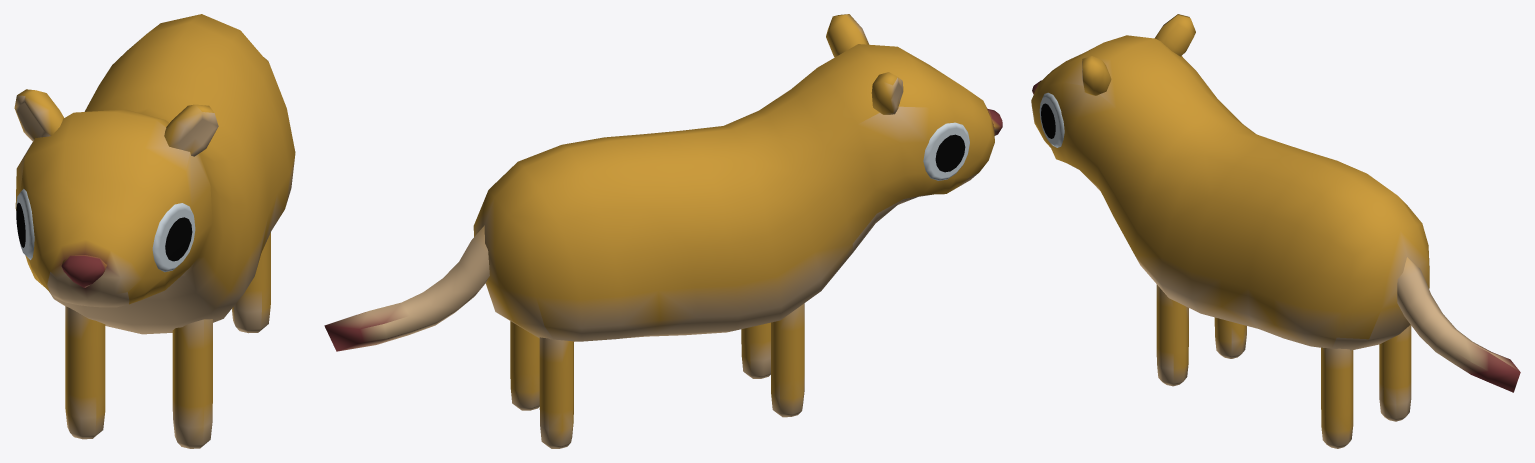
Rendered from Lioness.glb.
The picture shows the model from 3 angles, left to right: view 1: azimuth 30°, elevation 25°; view 2: azimuth 150°, elevation 25°; view 3: azimuth 270°, elevation 25°; orthographic projection. The views are drawn at different scales.
Parts seen in each view (by area): view 1: 92; view 2: 92; view 3: 92.
Part boxes in pixels (<box>): 92: <box>14,14,295,448</box>; 92: <box>324,14,1002,448</box>; 92: <box>1031,14,1520,448</box>.
Size of the model in its own units: 1.07 by 0.8123 by 1.17.
